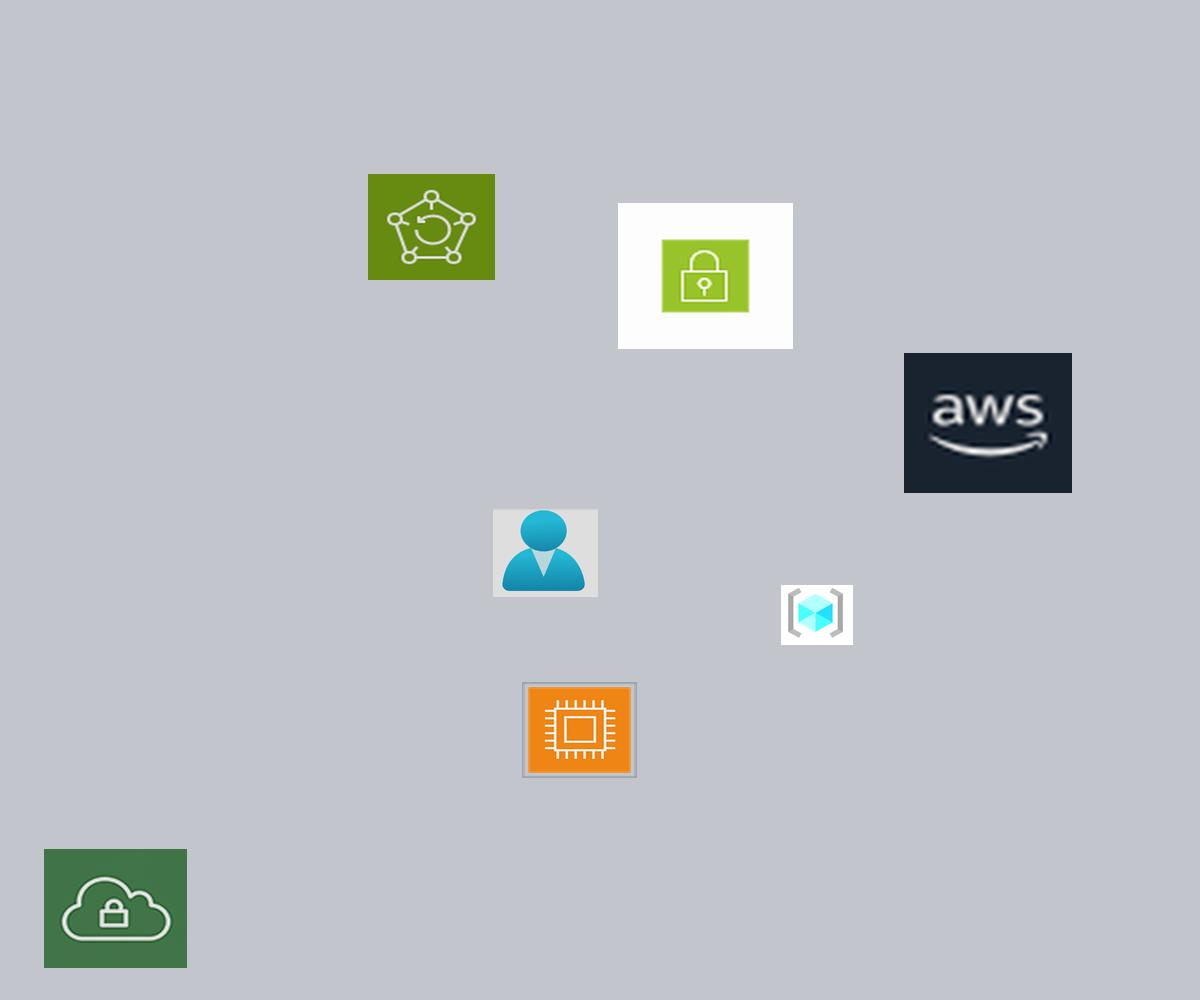AWS-Backup: (368, 174, 495, 280)
AWS-Category_Compute: (522, 682, 637, 778)
AWS-Cloud-logo: (904, 353, 1072, 493)
AWS-Private_vpc: (44, 849, 187, 968)
AWS-Public-subnet: (618, 203, 793, 349)
Azure_resource_group: (781, 585, 853, 645)
Azure_users: (493, 509, 598, 597)
